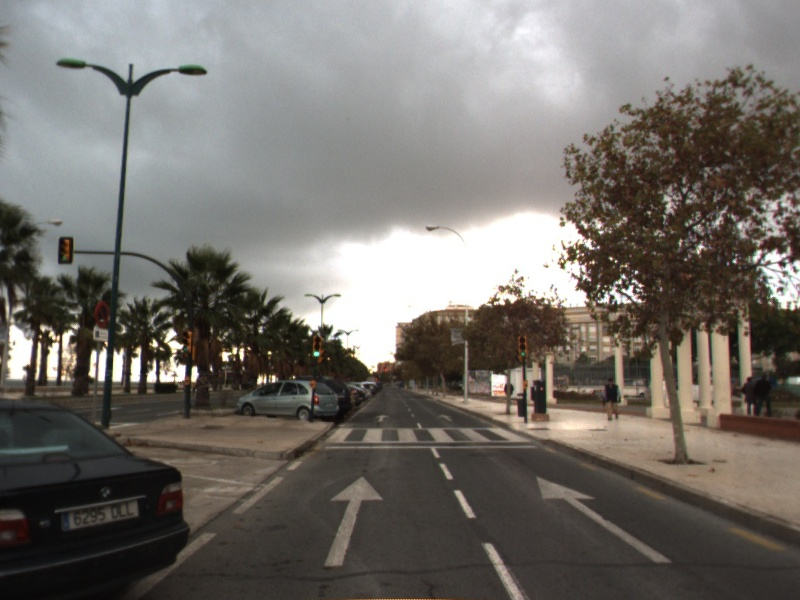STRAIGHT: (535, 475, 674, 565), (322, 474, 386, 568), (437, 412, 455, 423), (374, 413, 390, 424)
